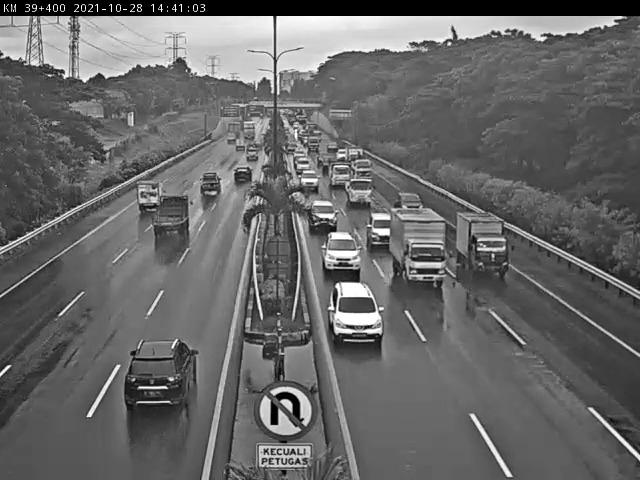car: (123, 337, 198, 411), (326, 280, 385, 346), (322, 231, 363, 275), (309, 199, 339, 231), (367, 211, 392, 249), (395, 191, 425, 213), (199, 170, 223, 194)
mid truck: (389, 206, 448, 287), (151, 193, 192, 234)
small truck: (456, 211, 508, 277), (137, 178, 166, 210)
